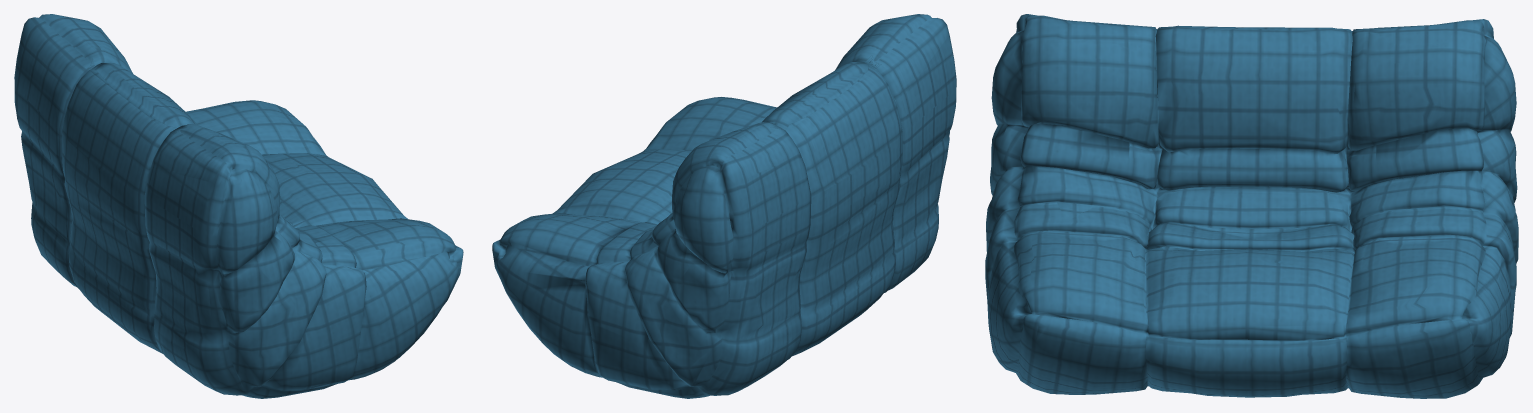
Rendered from loveSeat.glb.
The picture shows the model from 3 angles, left to right: view 1: azimuth 30°, elevation 25°; view 2: azimuth 150°, elevation 25°; view 3: azimuth 270°, elevation 25°; orthographic projection. The views are drawn at different scales.
Parts seen in each view (by area): view 1: loveSeat; view 2: loveSeat; view 3: loveSeat.
Part boxes in pixels (x1=…): loveSeat: x1=14, y1=14, x2=463, y2=398; loveSeat: x1=492, y1=14, x2=956, y2=398; loveSeat: x1=985, y1=14, x2=1518, y2=398.
Size of what is drawn, in the model's own units: 1.74 by 1.51 by 2.46.
Materials: 1 (1 with a texture image).
